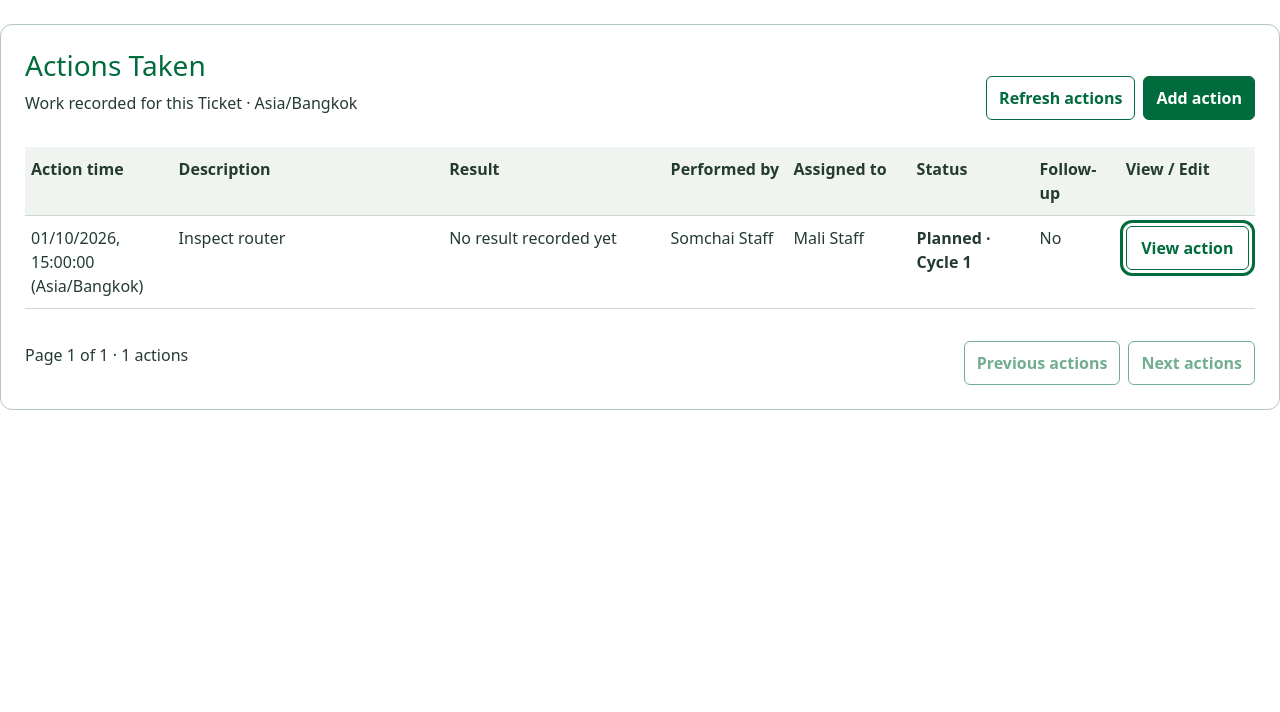
Test: Actions Taken role and lifecycle permissions (UI-02) › keeps focus on View action when no form is being dismissed
The image size is (1280, 712).
Click the button with aria-label "View action:" at (1187, 248), box [1126, 226, 1249, 270]
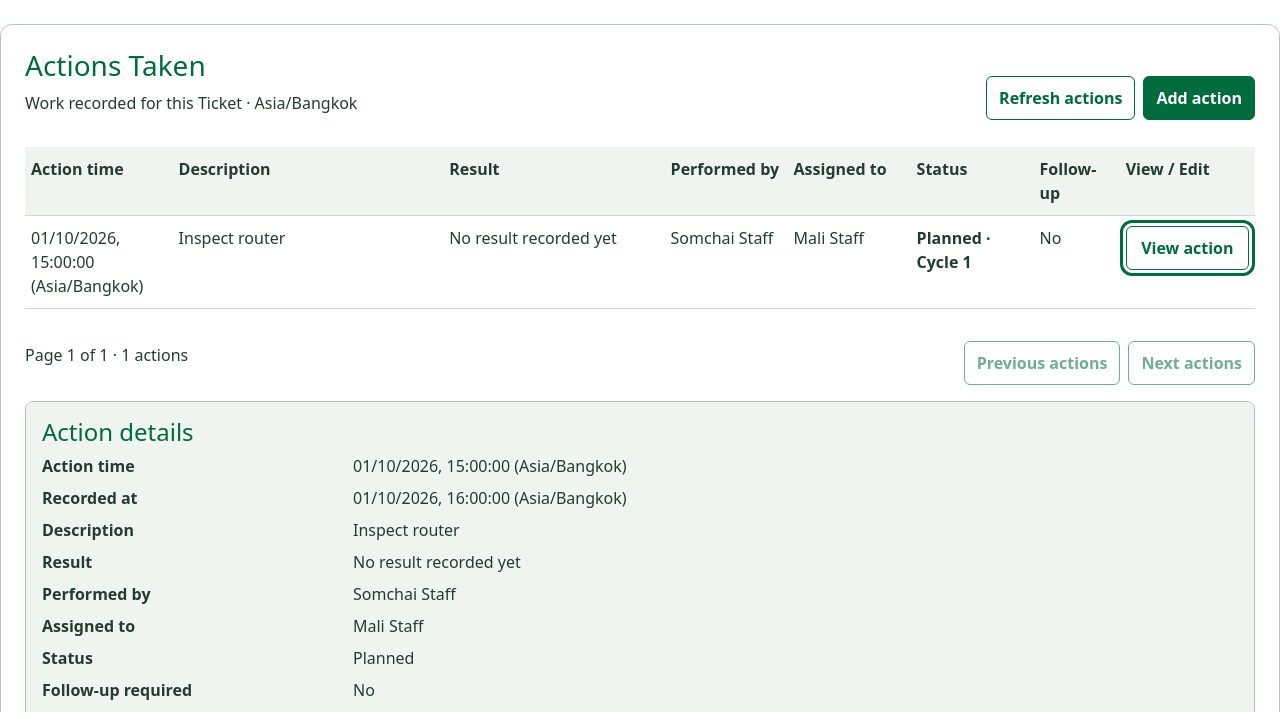
Result: the heading "Action details" is shown at [42, 415, 194, 448]
